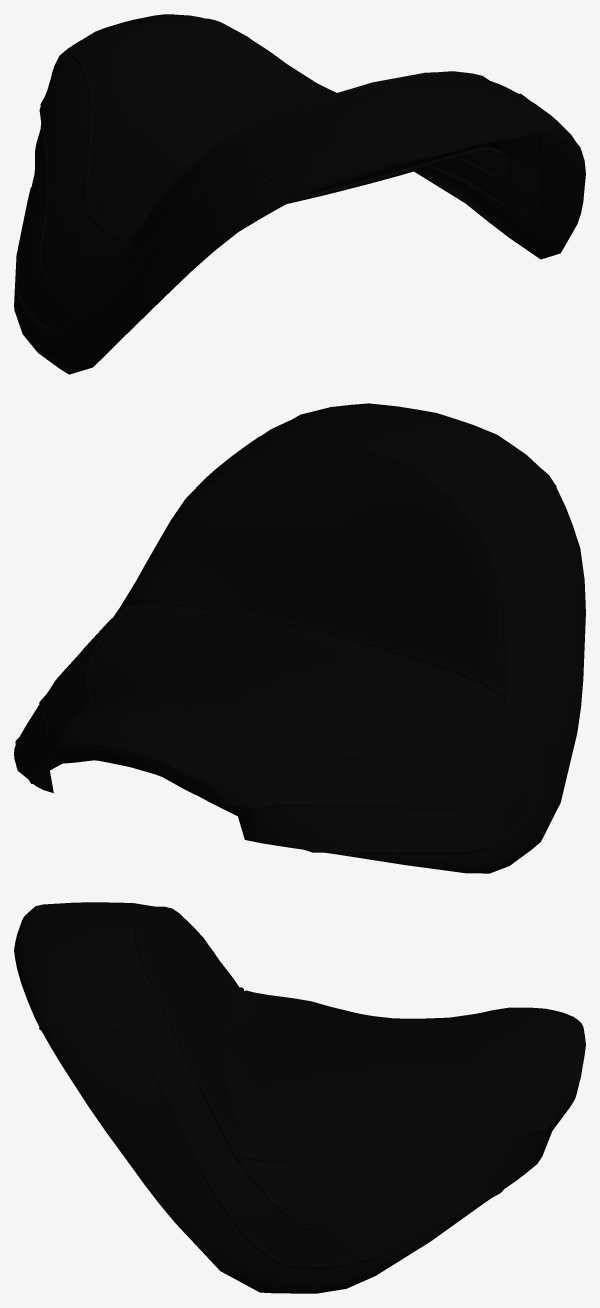
Rendered from Seat_ULTIMATE_2K.glb.
3 views of the same model, one above another, from view 1: azimuth 30°, elevation 25°; view 2: azimuth 150°, elevation 25°; view 3: azimuth 270°, elevation 25° (orthographic). The views are drawn at different scales.
Parts seen in each view (by area): view 1: Seat_ULTIMATE_2K, Plane.009_Curve.007, Plane.009_Curve.008, Plane.009_Curve.006, Plane.009_Curve.005; view 2: Seat_ULTIMATE_2K, Plane.009_Curve.007, Plane.009_Curve.008, Plane.009_Curve.005, Plane.009_Curve.006, Plane.009_Curve.009; view 3: Seat_ULTIMATE_2K, Plane.009_Curve.007, Plane.009_Curve.008, Plane.009_Curve.006, Plane.009_Curve.005.
Part boxes in pixels (left/top/right/bottom): Seat_ULTIMATE_2K: left=14, top=14, right=585, bottom=374; Plane.009_Curve.007: left=39, top=71, right=512, bottom=290; Plane.009_Curve.008: left=15, top=93, right=556, bottom=335; Plane.009_Curve.006: left=59, top=18, right=500, bottom=245; Plane.009_Curve.005: left=128, top=147, right=508, bottom=243; Seat_ULTIMATE_2K: left=14, top=403, right=585, bottom=873; Plane.009_Curve.007: left=39, top=446, right=512, bottom=809; Plane.009_Curve.008: left=15, top=420, right=556, bottom=854; Plane.009_Curve.005: left=128, top=598, right=503, bottom=696; Plane.009_Curve.006: left=59, top=605, right=502, bottom=780; Plane.009_Curve.009: left=49, top=742, right=228, bottom=803; Seat_ULTIMATE_2K: left=14, top=902, right=585, bottom=1293; Plane.009_Curve.007: left=135, top=906, right=564, bottom=1231; Plane.009_Curve.008: left=39, top=1023, right=503, bottom=1268; Plane.009_Curve.006: left=239, top=990, right=576, bottom=1163; Plane.009_Curve.005: left=223, top=987, right=243, bottom=1156.
Bounding box in the file's own units: 0.4213 × 0.2396 × 0.4797.
2 materials, 1 textured.
